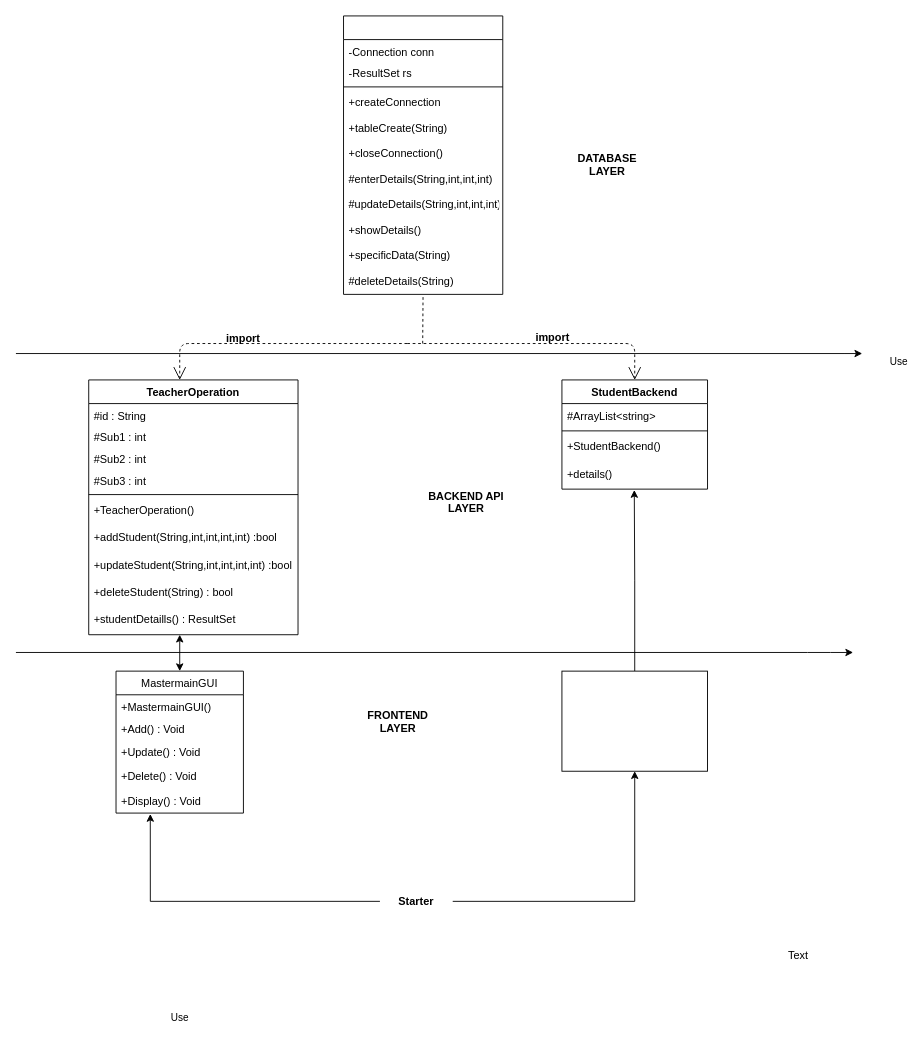
The diagram is 924 pixels wide and 1039 high, and some of its shapes have lost their labels. The box of each missing label's shape, as (x1, y1, x2, y2) in pixels:
DatabaseOperation: (343, 15, 503, 294)
StudentmainGUI #ArrayList<string> + StudentmainGUI() +funent(): (561, 670, 708, 771)
